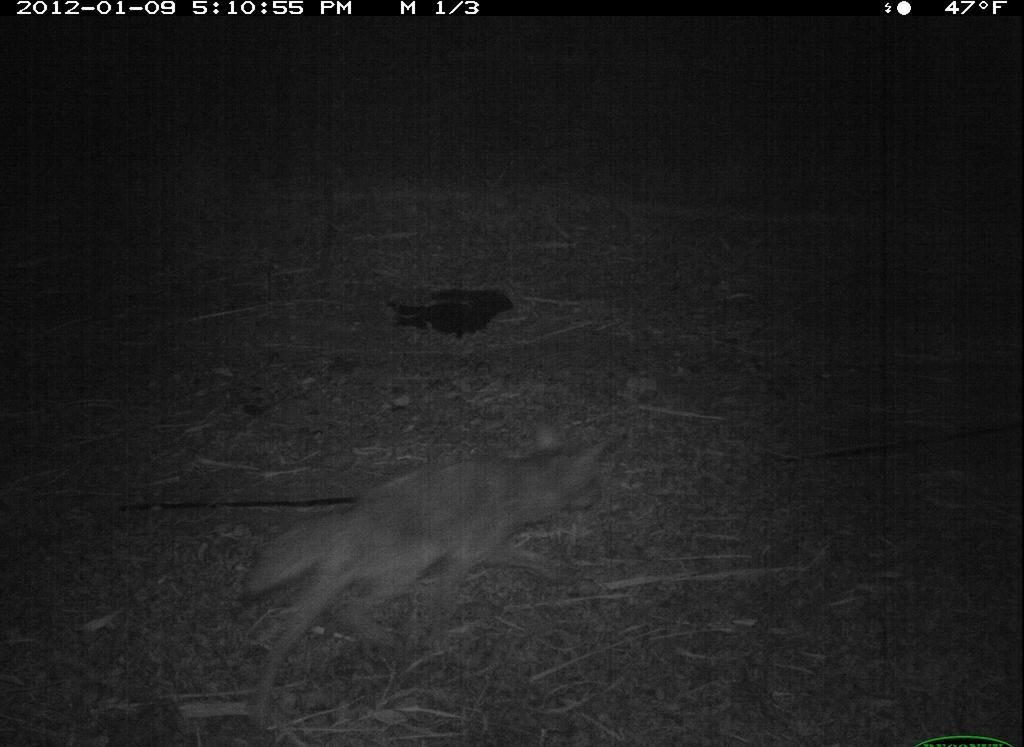coyote: (214, 418, 638, 733)
